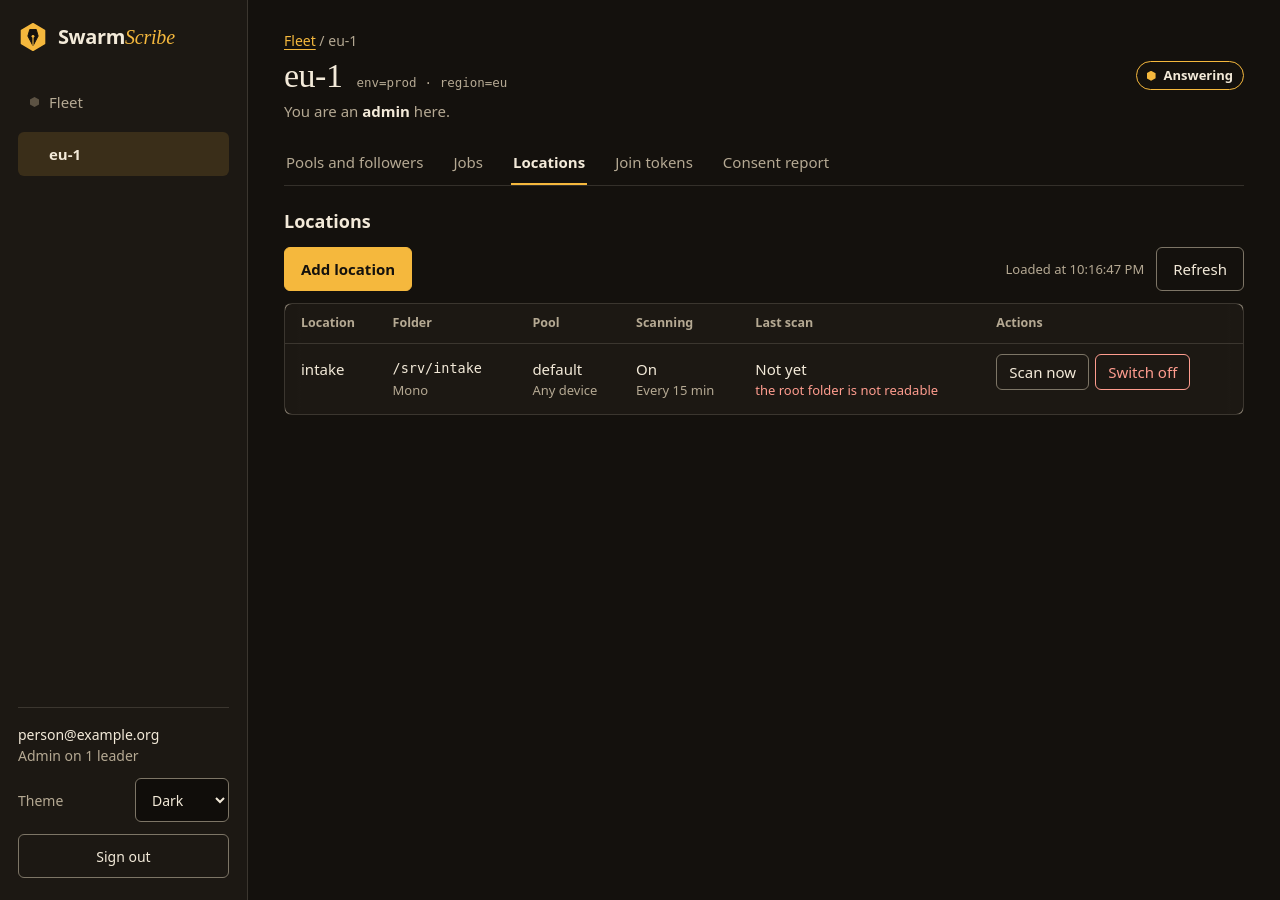
Scenario: locations tab › adds a location from the form, sending only what was set
Click the button "Add location" at x=348, y=269, box [284,247,412,291]
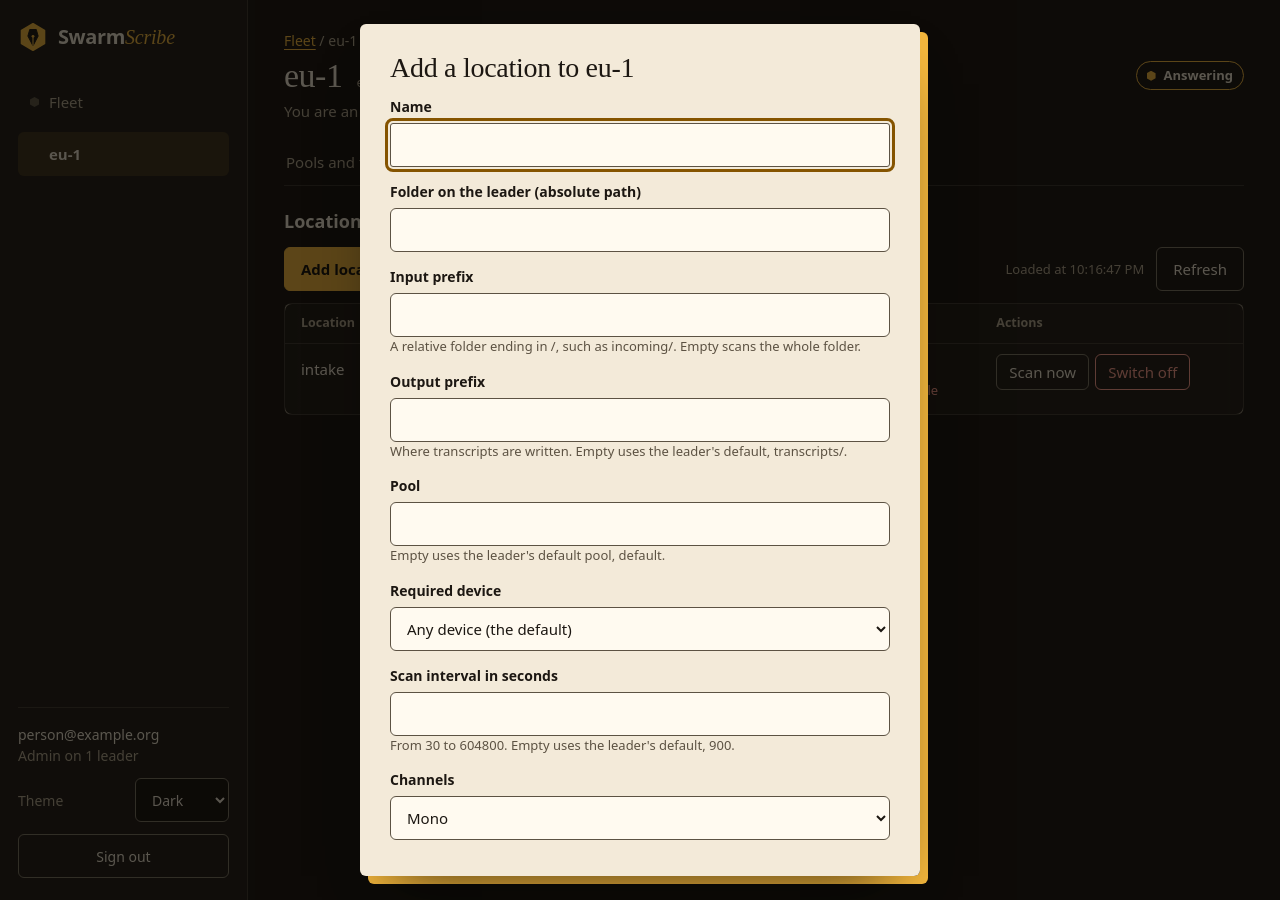
Type "calls" into the field labelled "Name" at x=640, y=145, box [390,123,890,167]
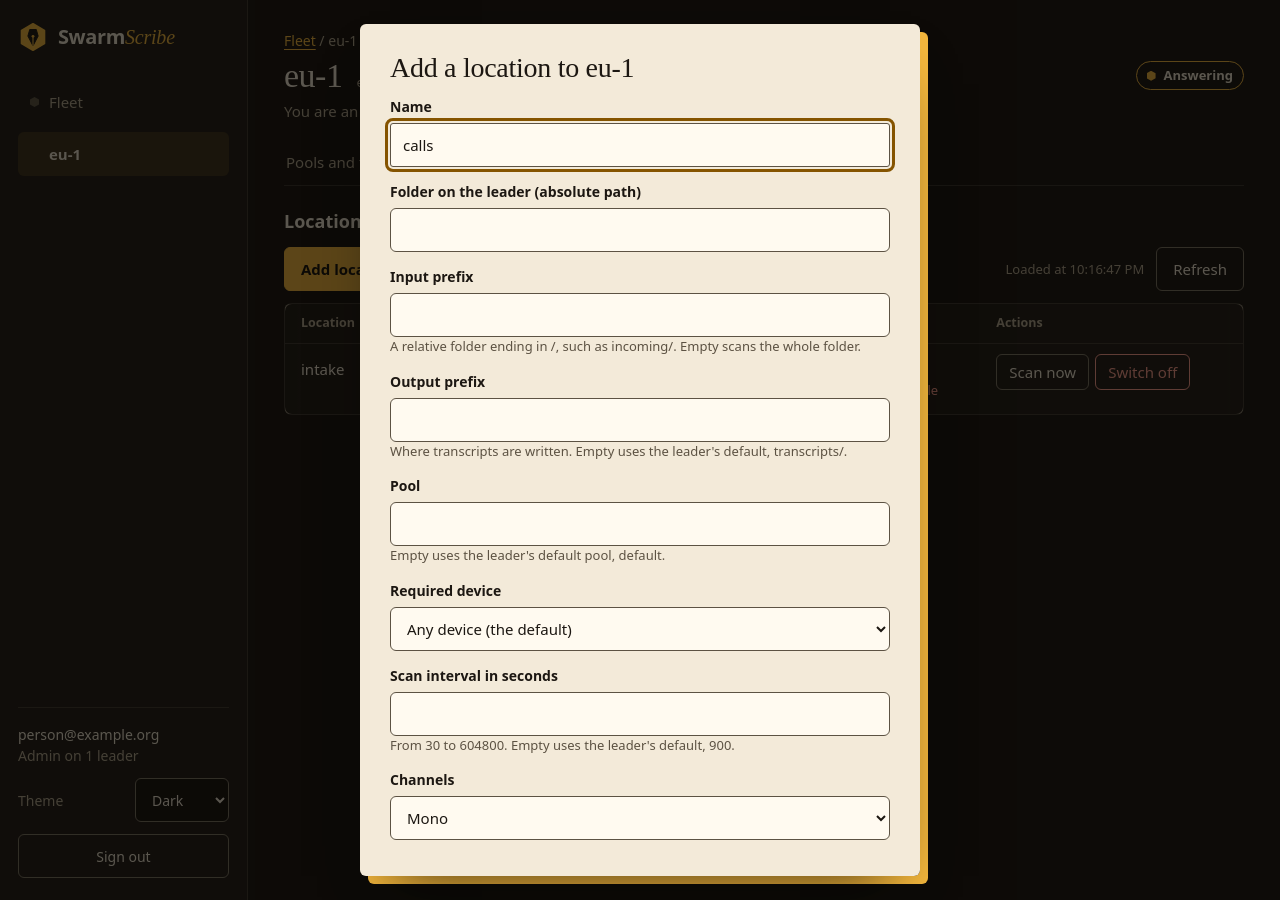
Type "/srv/calls" into the field labelled "Folder on the leader (absolute path)" at x=640, y=230, box [390,208,890,252]
(page scrolled)
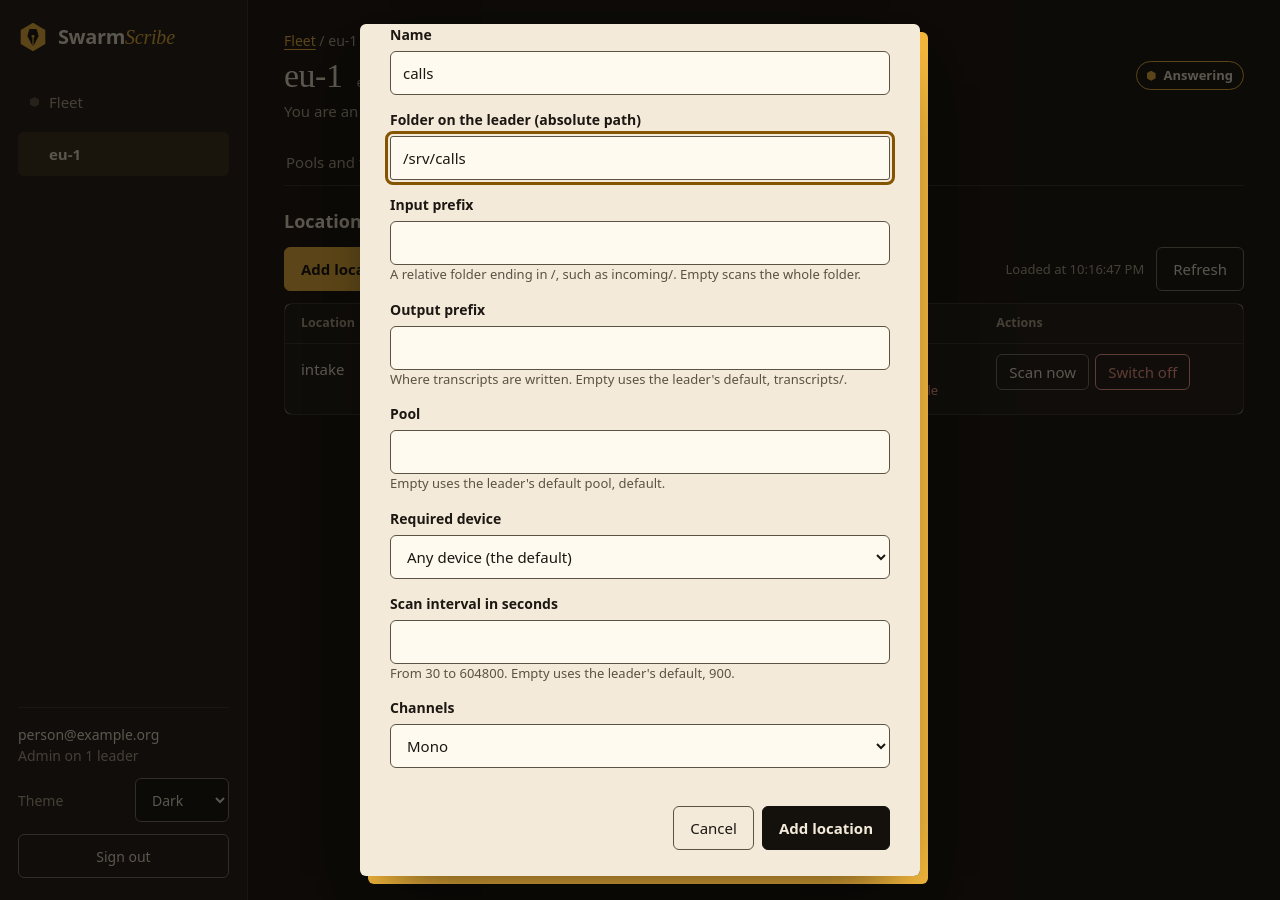
Click the button "Add location" at x=826, y=828, box [762,806,890,850]
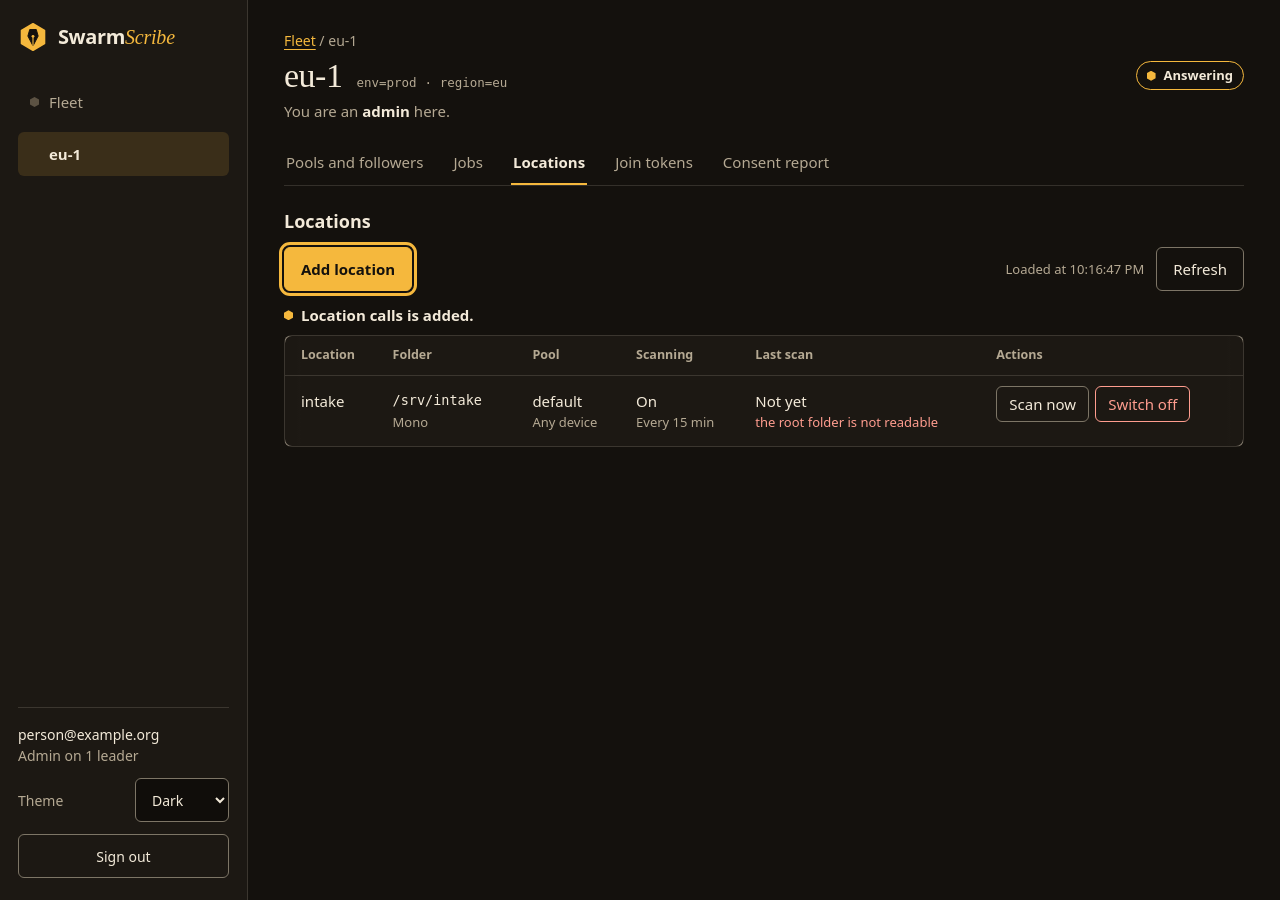
Check: the text "Location calls is added." is shown, box [301,305,474,325]
Check: the dialog is gone
